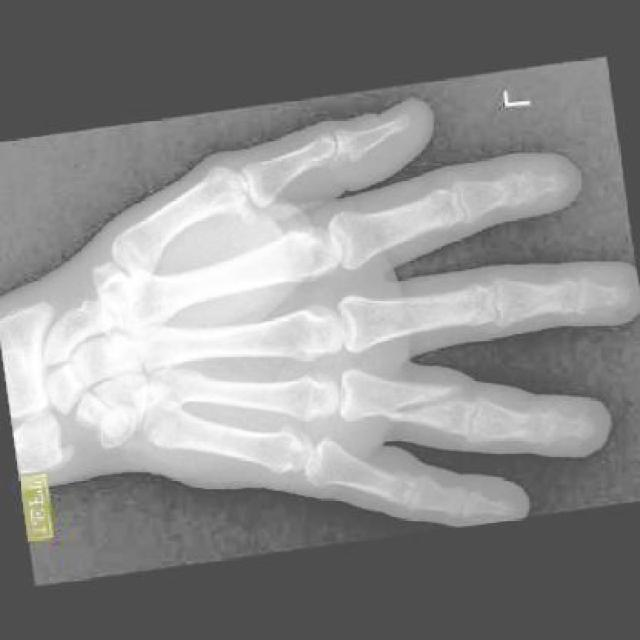Fracture: (346, 370, 479, 444)
